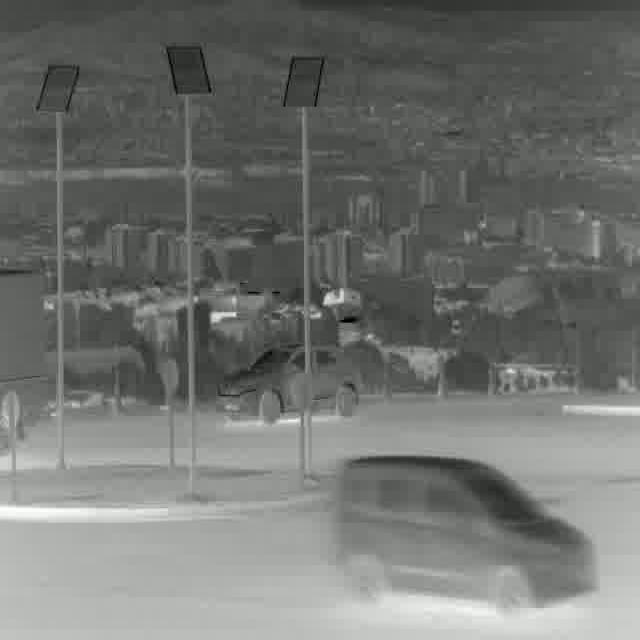Car: (338, 457, 598, 614), (218, 345, 358, 418), (0, 273, 44, 451)
